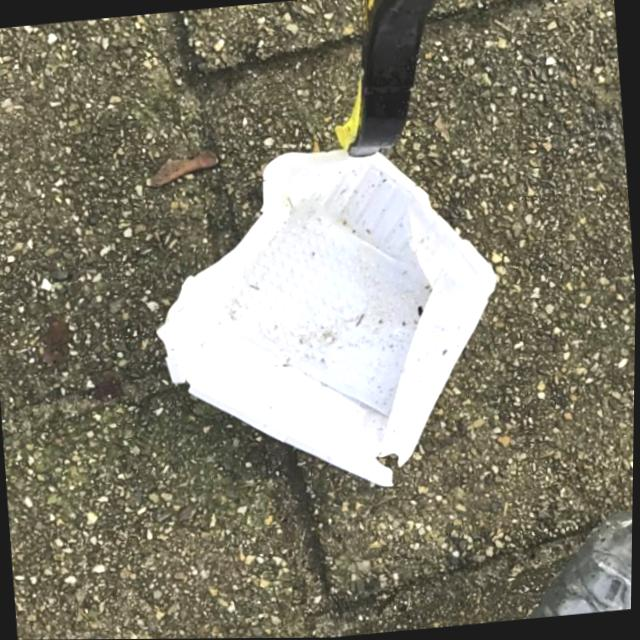Paper: (138, 128, 522, 509)
